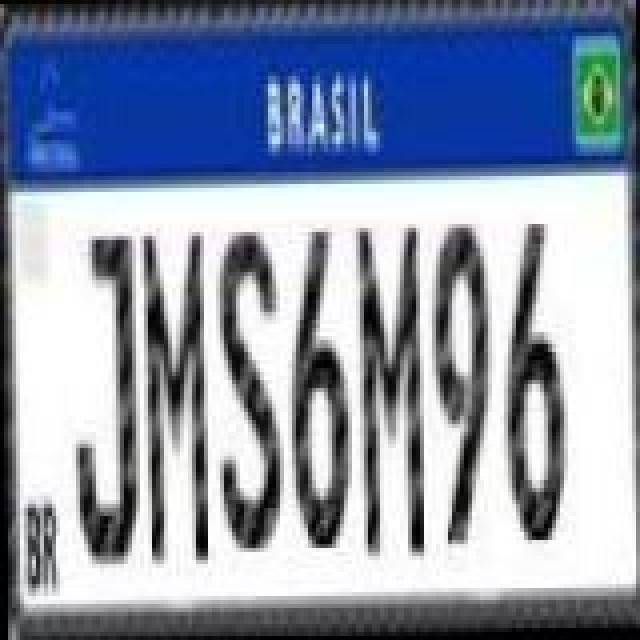6: (498, 214, 566, 550), (286, 226, 354, 550)
9: (428, 218, 492, 542)
J: (72, 234, 144, 570)
M: (358, 226, 426, 562), (144, 232, 208, 568)
S: (214, 230, 282, 554)
